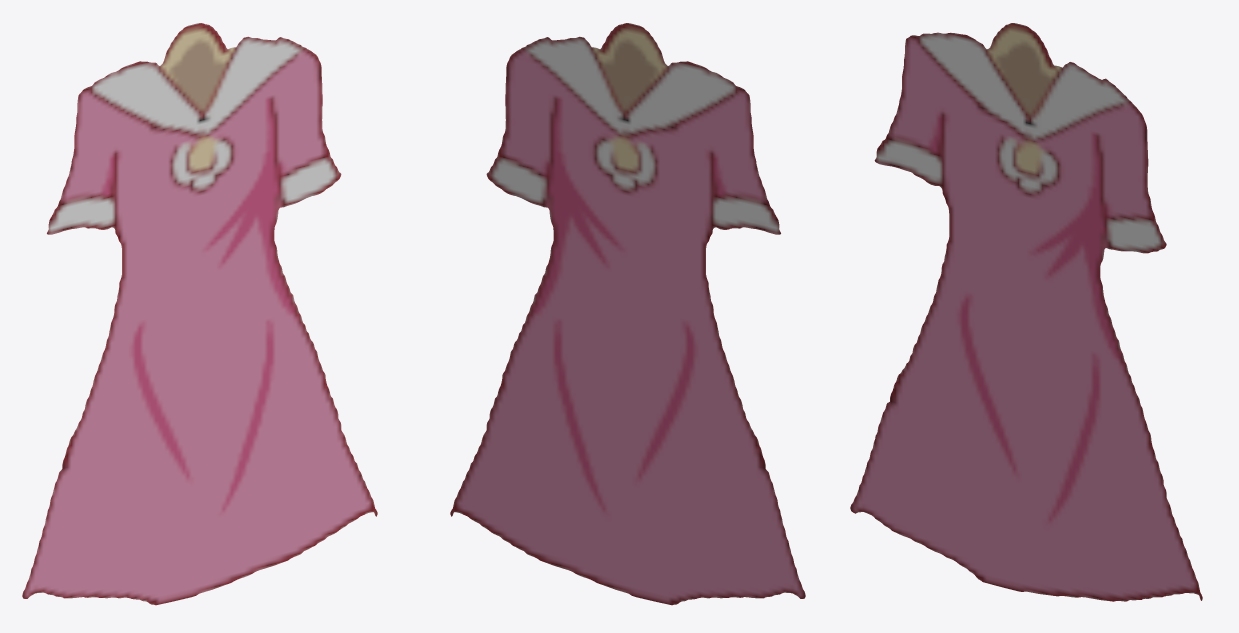
The model's file is giftgoods020.fbx.
3 renders of one model, left to right at view 1: azimuth 30°, elevation 25°; view 2: azimuth 150°, elevation 25°; view 3: azimuth 330°, elevation 25°, orthographic.
Parts seen in each view (by area): view 1: giftgoods020; view 2: giftgoods020; view 3: giftgoods020.
Part boxes in pixels (left/top/right/bottom): giftgoods020: left=22, top=23, right=377, bottom=605; giftgoods020: left=450, top=23, right=805, bottom=605; giftgoods020: left=850, top=23, right=1202, bottom=601.
Size of the model in its own units: 0.7229 by 1.06 by 0.
